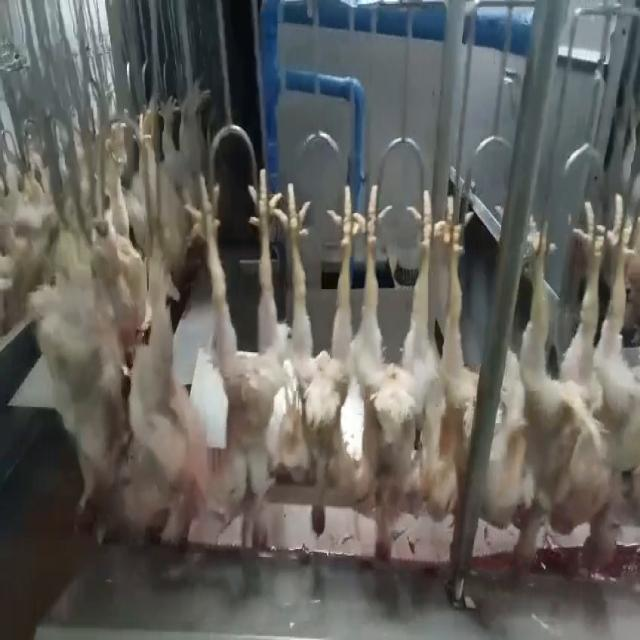chicken: (488, 196, 606, 576), (188, 160, 288, 543), (347, 183, 433, 557), (98, 177, 186, 535), (561, 188, 639, 577), (282, 180, 359, 538), (424, 192, 470, 534)
